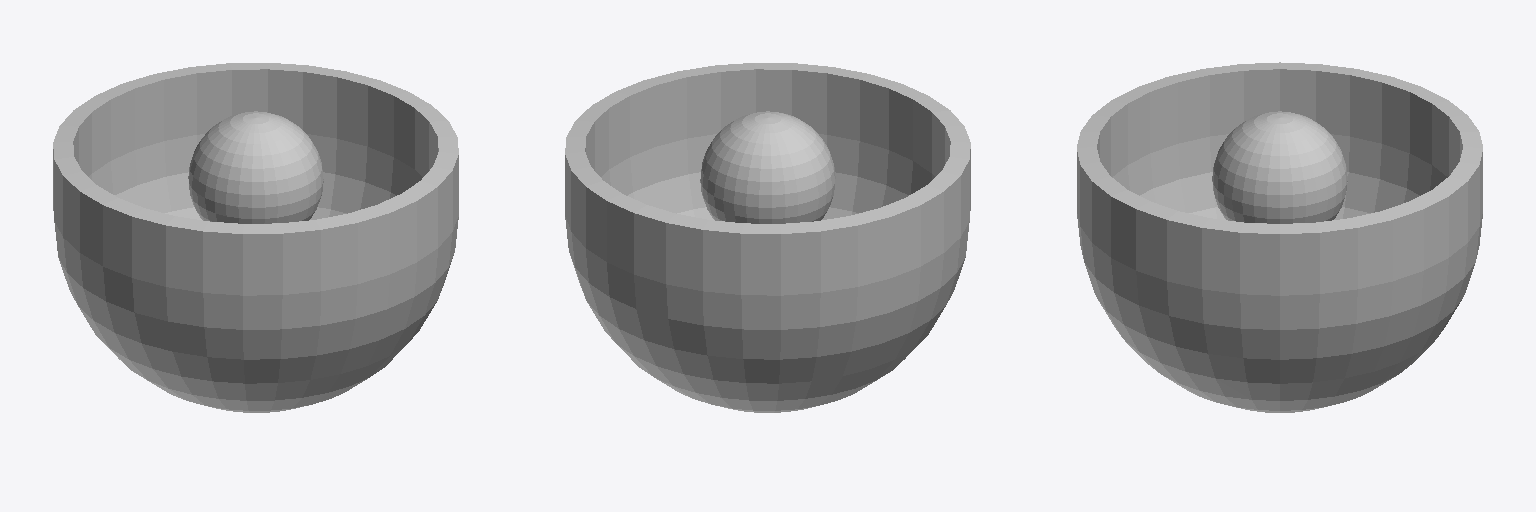
The model's file is GoldObjects.obj.
3 renders of one model, left to right at view 1: azimuth 30°, elevation 25°; view 2: azimuth 150°, elevation 25°; view 3: azimuth 270°, elevation 25°, orthographic.
Visible parts, largest first — view 1: GoldObjects; view 2: GoldObjects; view 3: GoldObjects.
Part boxes in pixels (x1,y1,x2,y2): GoldObjects: (53, 63, 458, 412); GoldObjects: (565, 63, 970, 412); GoldObjects: (1077, 62, 1482, 412).
Size of the model in its own units: 0.12 by 0.09 by 0.12.